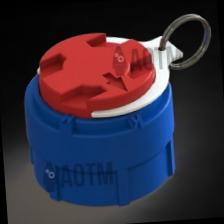M14: (31, 10, 198, 204)
